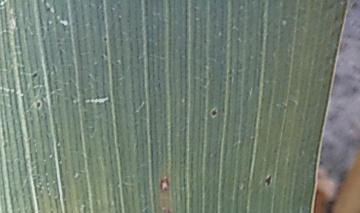tarspot: (263, 173, 272, 186), (209, 107, 218, 118), (30, 70, 38, 80), (35, 100, 41, 109), (101, 35, 108, 42)
